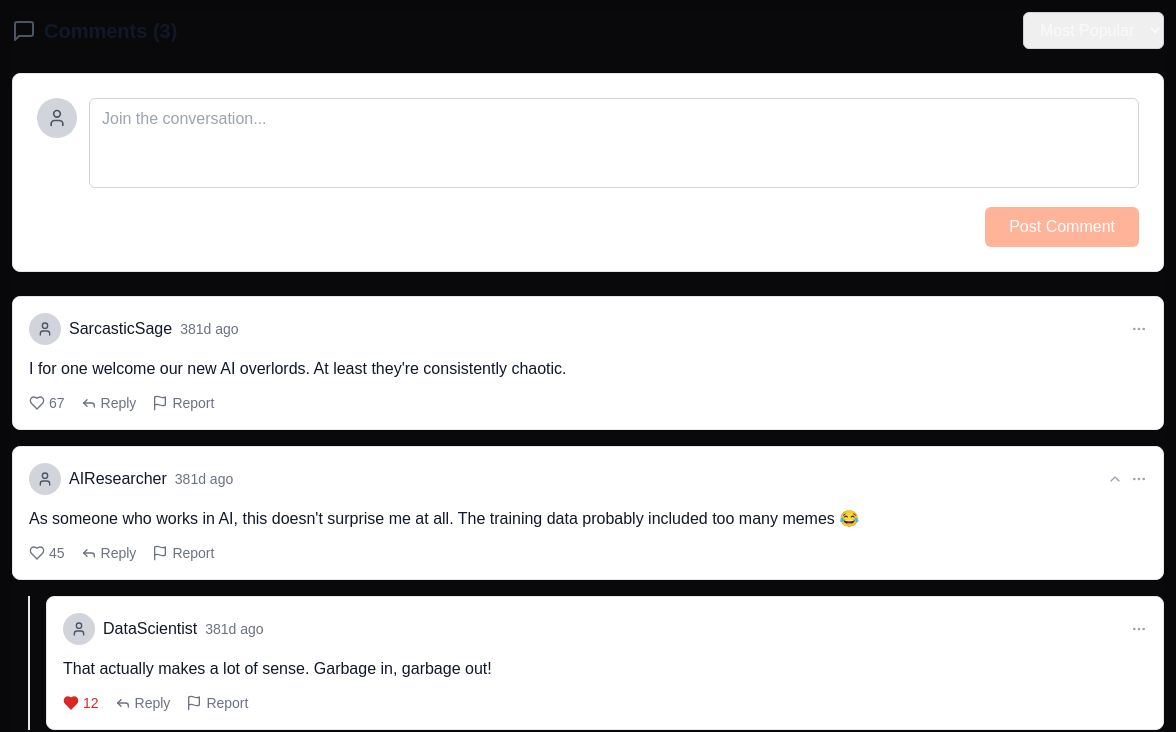
it: CommentSystem › submits new comment
Expected: the button "Post Comment" is disabled, [985, 207, 1139, 247]
Type "This is a test comment" into the text box with placeholder "Join the conversation..." at (614, 143), box [89, 98, 1139, 188]
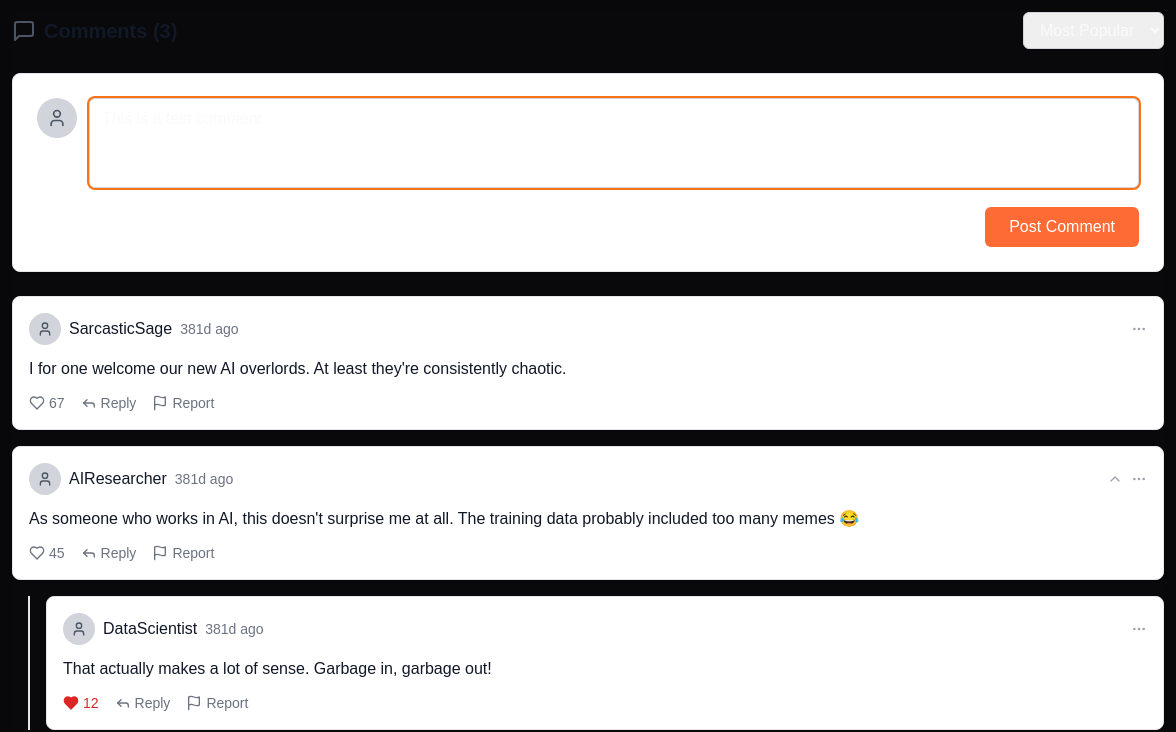
Expected: the button "Post Comment" is enabled
Click the button "Post Comment" at (1062, 227), box [985, 207, 1139, 247]
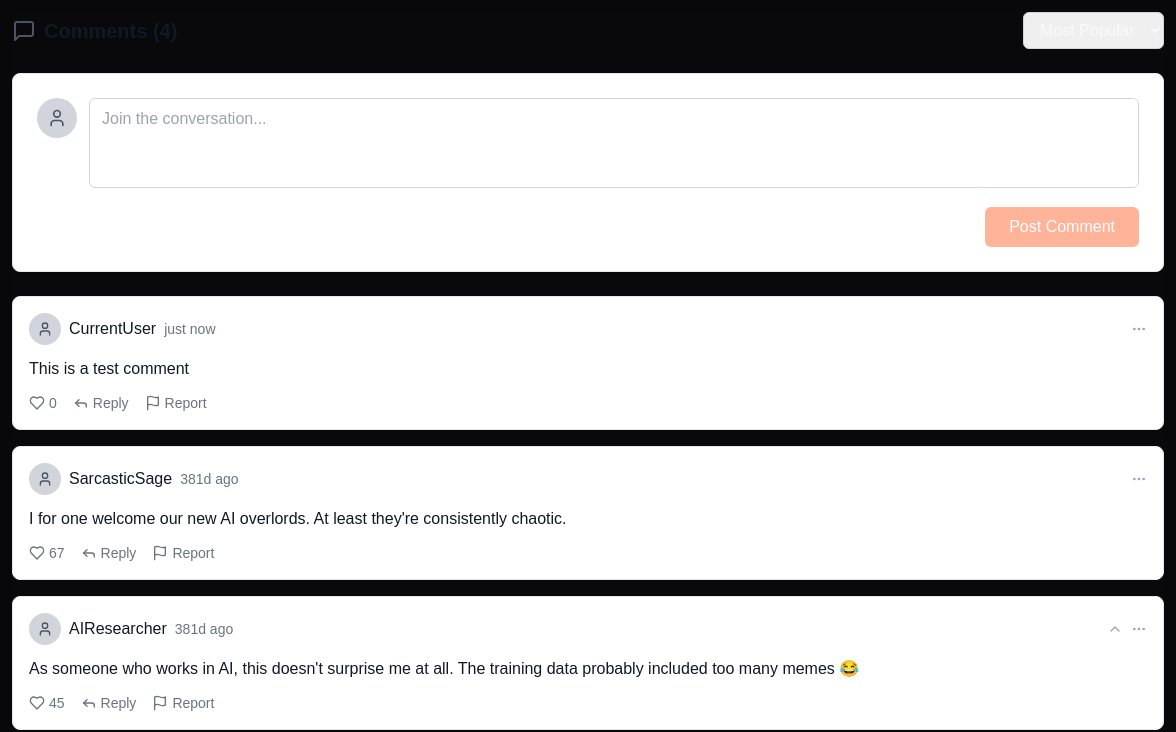
Expected: the text "This is a test comment" is shown, [29, 360, 189, 377]
Expected: the text box with placeholder "Join the conversation..." is empty, [89, 98, 1139, 188]
